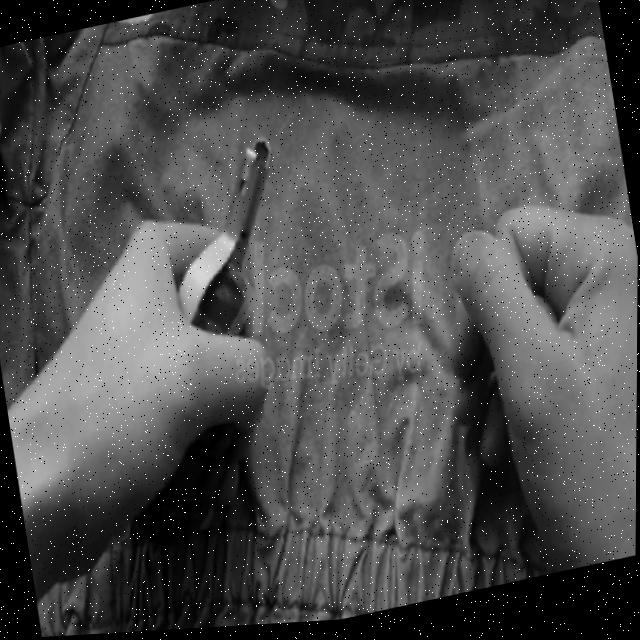grenade: (64, 108, 332, 568)
